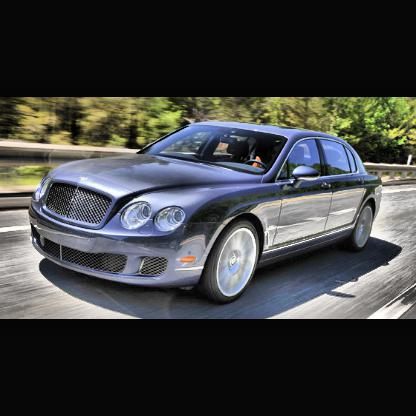Bentley Continental Flying Spur Sedan 2007: (23, 122, 381, 300)
